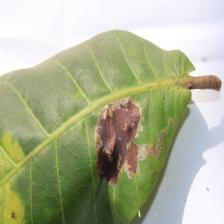leaf miner: (0, 28, 222, 224), (94, 96, 142, 185)
